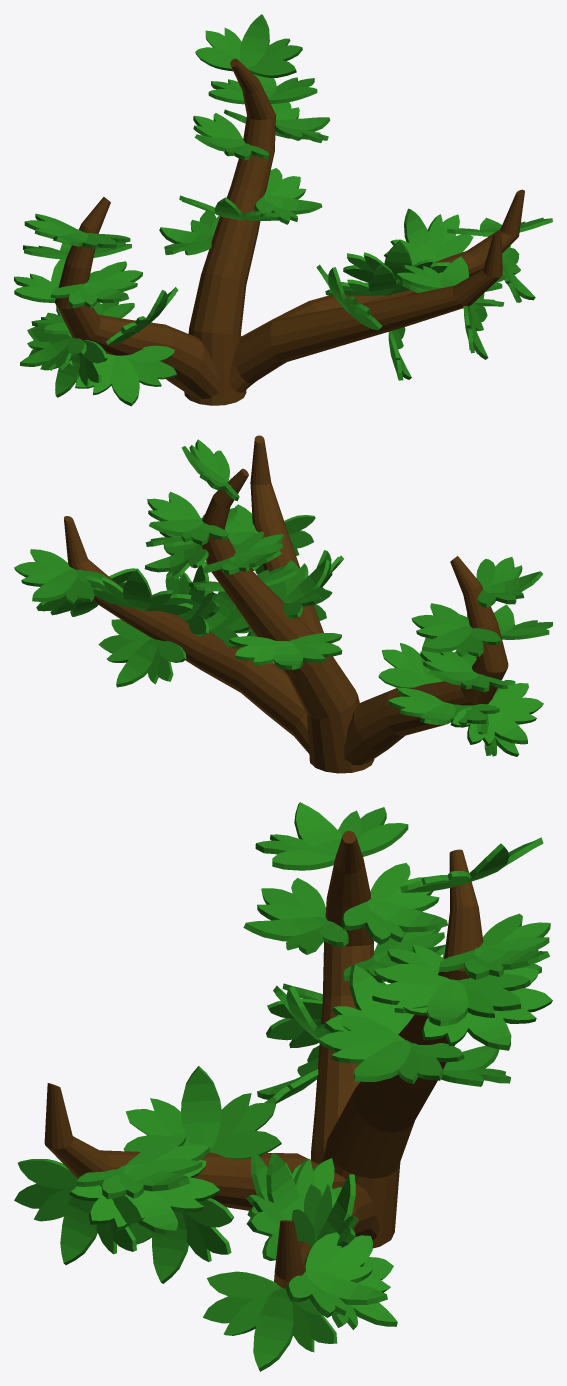
The model's file is Arbusto3Hoja3.fbx.
The picture shows the model from 3 angles, top to bottom: view 1: azimuth 30°, elevation 25°; view 2: azimuth 150°, elevation 25°; view 3: azimuth 270°, elevation 25°; orthographic projection. The views are drawn at different scales.
Visible parts, largest first — view 1: RamaArbusto3Hoja3; view 2: RamaArbusto3Hoja3; view 3: RamaArbusto3Hoja3.
Boxes of the visible parts, x1,y1,x2,y2 form: RamaArbusto3Hoja3: [14, 14, 552, 406]; RamaArbusto3Hoja3: [14, 435, 552, 773]; RamaArbusto3Hoja3: [14, 802, 552, 1371].
Bounding box in the file's own units: 187 × 111 × 118.
